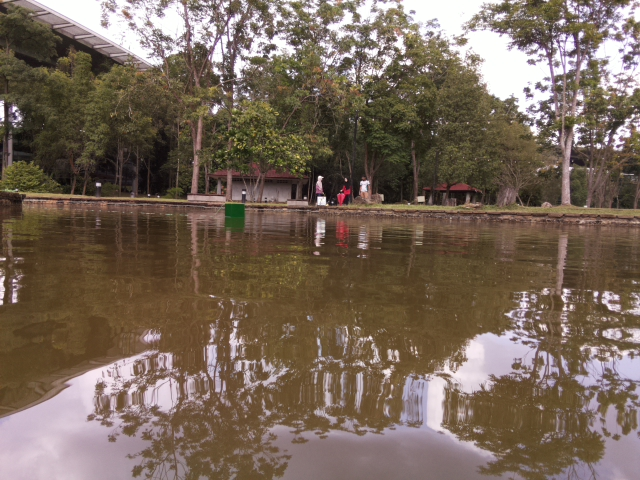obstacle: (224, 203, 246, 217)
